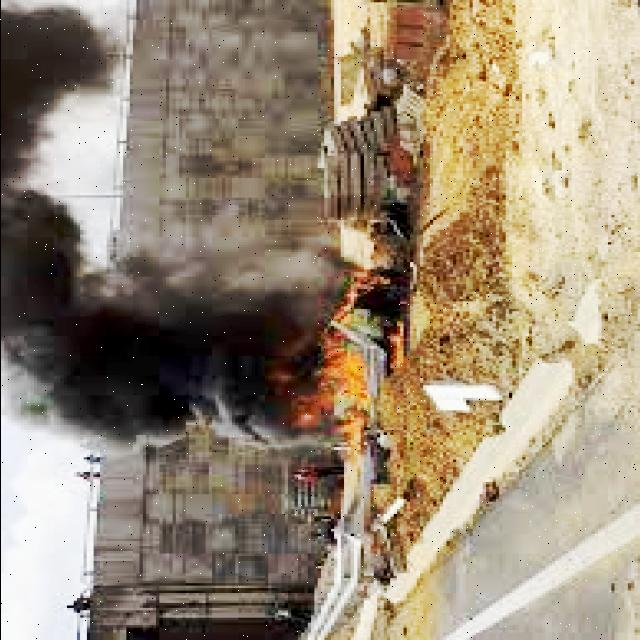api: (271, 275, 397, 461)
